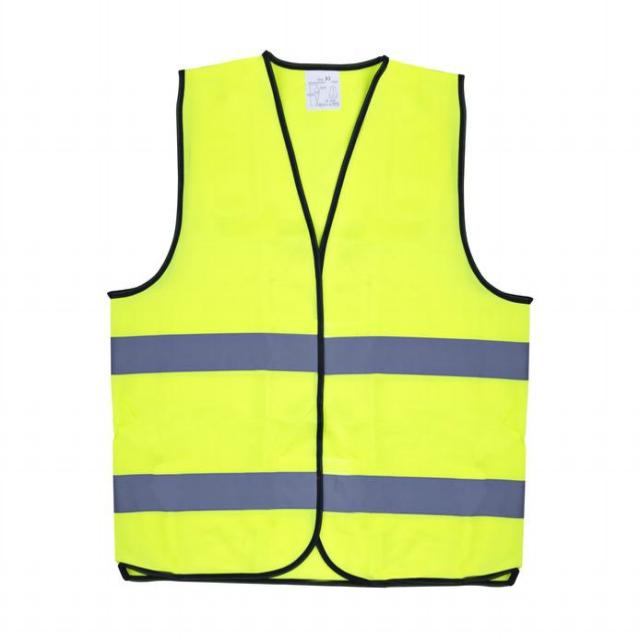Reflective-Jacket: (75, 46, 558, 601)
